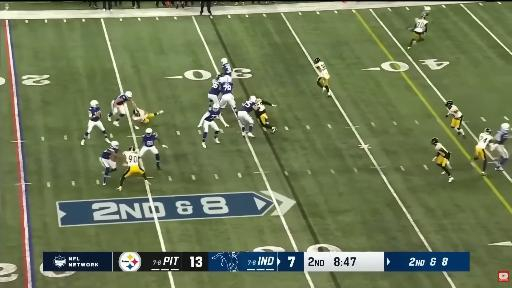Helmet: (422, 4, 431, 12), (421, 12, 429, 21), (224, 75, 232, 83), (501, 123, 510, 130), (446, 100, 453, 108), (212, 103, 219, 110), (125, 91, 132, 98), (221, 58, 228, 65), (431, 138, 438, 145), (111, 141, 119, 147), (91, 100, 98, 106), (133, 109, 139, 116), (146, 128, 152, 134), (216, 74, 221, 81), (250, 96, 256, 101), (485, 128, 491, 133), (129, 146, 135, 151), (314, 58, 320, 63), (220, 77, 224, 82)
Jersey: (476, 133, 493, 148), (495, 129, 510, 145), (123, 151, 139, 166), (142, 132, 157, 147), (208, 79, 221, 96), (256, 100, 271, 114), (102, 146, 118, 159), (414, 19, 428, 33), (435, 143, 449, 157), (204, 109, 220, 121), (315, 62, 328, 76), (240, 101, 255, 113), (449, 106, 462, 118), (89, 107, 100, 121), (133, 109, 147, 120), (115, 94, 129, 105), (221, 82, 233, 94), (222, 63, 232, 76), (257, 103, 265, 112)
Player: (117, 147, 149, 190), (81, 100, 110, 145), (198, 104, 228, 147), (99, 141, 121, 185), (431, 138, 453, 182), (490, 123, 510, 170), (408, 7, 430, 48), (474, 128, 493, 175), (140, 128, 161, 169), (108, 91, 132, 126), (238, 96, 257, 137), (255, 99, 276, 133), (446, 100, 465, 137), (220, 76, 237, 112), (314, 58, 330, 96), (132, 108, 163, 123), (208, 74, 221, 107), (222, 58, 232, 76), (422, 7, 430, 17)
